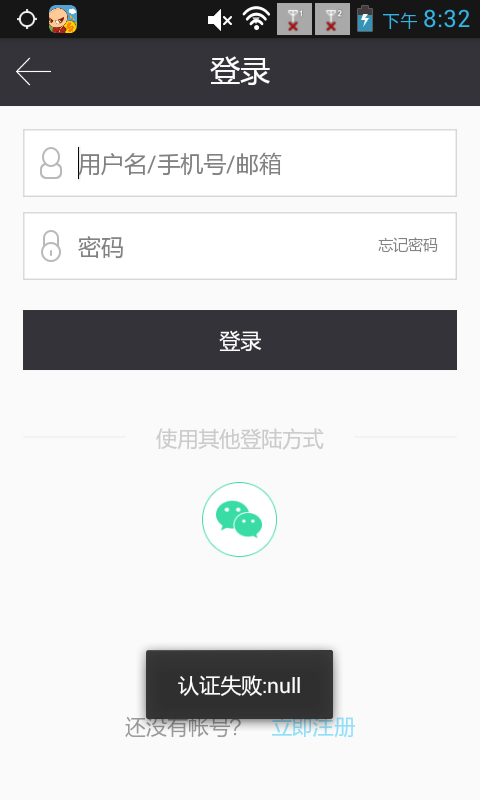alert: (135, 641, 343, 720)
button: (15, 298, 480, 383)
